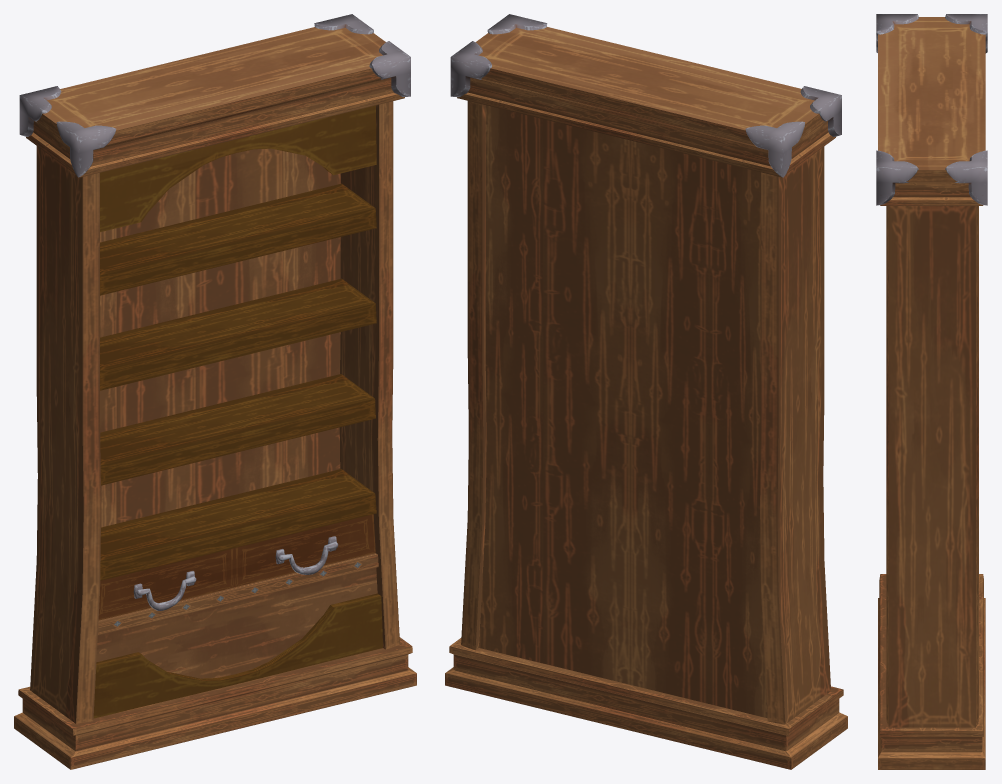
The model's file is bookcase-2.glb.
The picture shows the model from 3 angles, left to right: view 1: azimuth 30°, elevation 25°; view 2: azimuth 150°, elevation 25°; view 3: azimuth 270°, elevation 25°; orthographic projection. The views are drawn at different scales.
Parts seen in each view (by area): view 1: Bookcase_2; view 2: Bookcase_2; view 3: Bookcase_2.
Part boxes in pixels (bbox=[...]): Bookcase_2: bbox=[14, 14, 416, 769]; Bookcase_2: bbox=[445, 14, 847, 769]; Bookcase_2: bbox=[876, 14, 987, 769].
Bounding box in the file's own units: 1.46 × 2.54 × 0.429.
2 materials, 2 textured.
